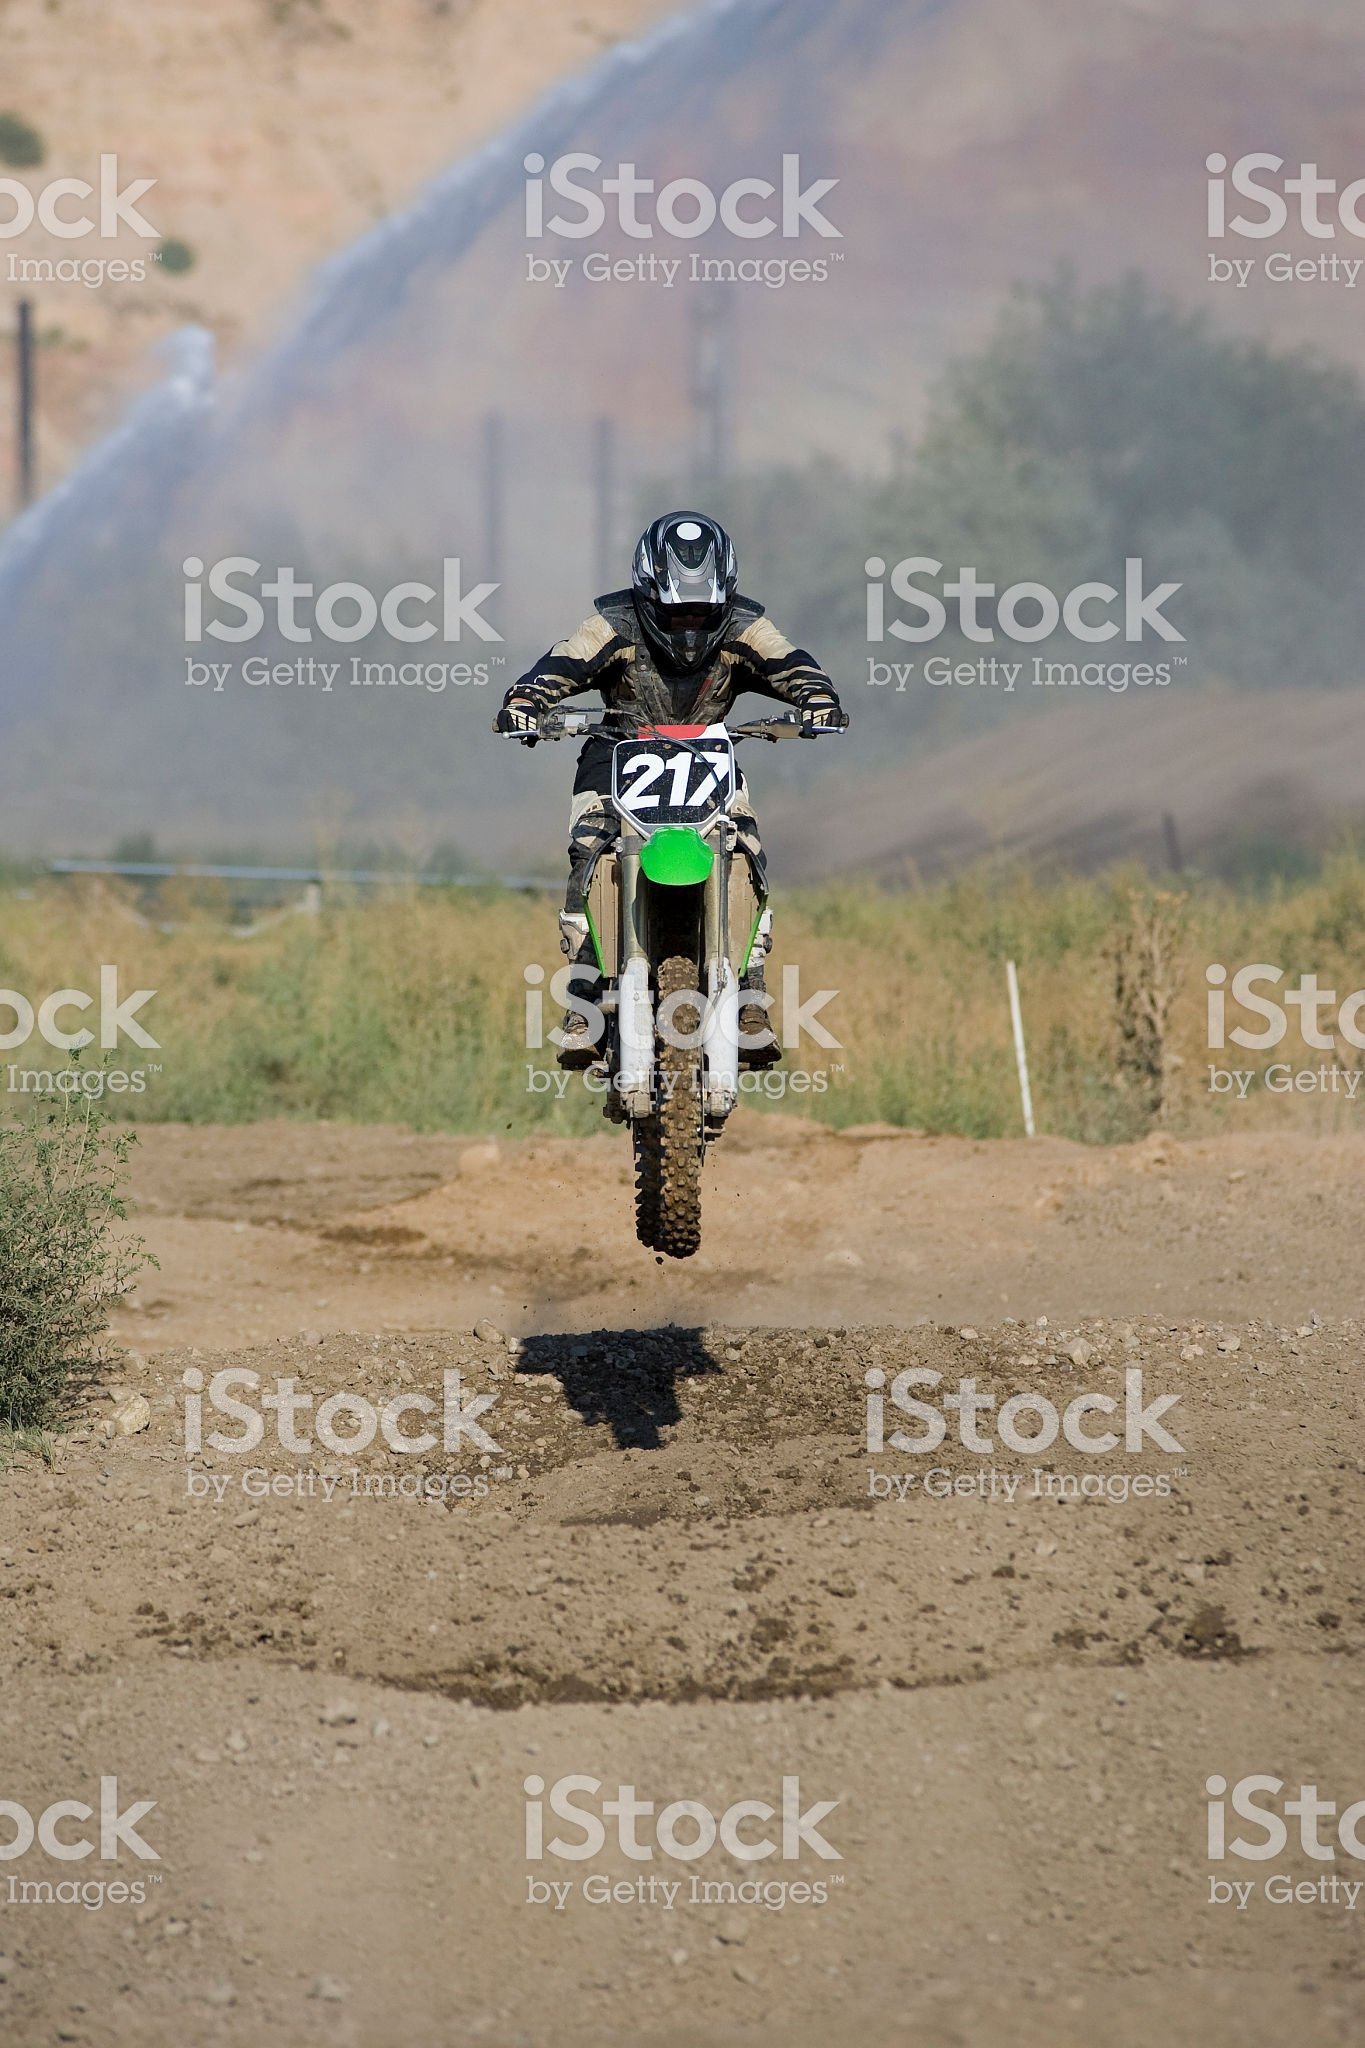helmet: (651, 493, 763, 624)
